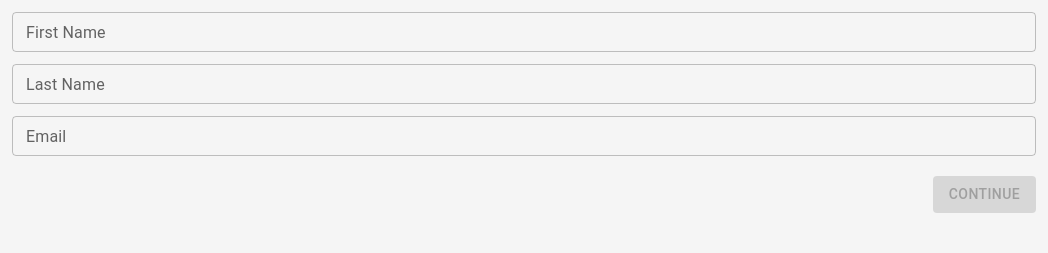
Test: ContactSection › shows error for missing first name after blur
Click the field labelled "First Name". click: x=524, y=32
box: [12,12,1036,52]
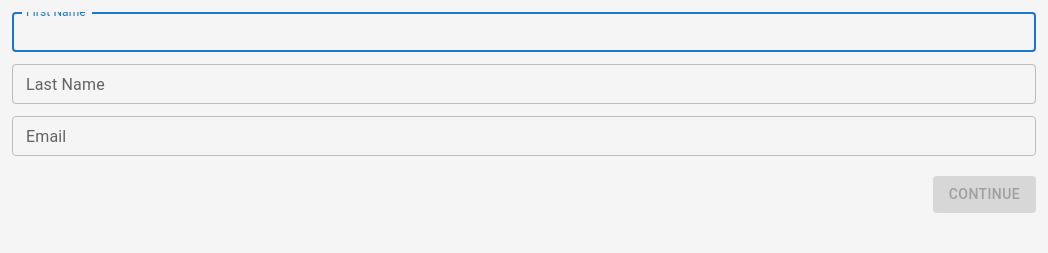
Press Tab
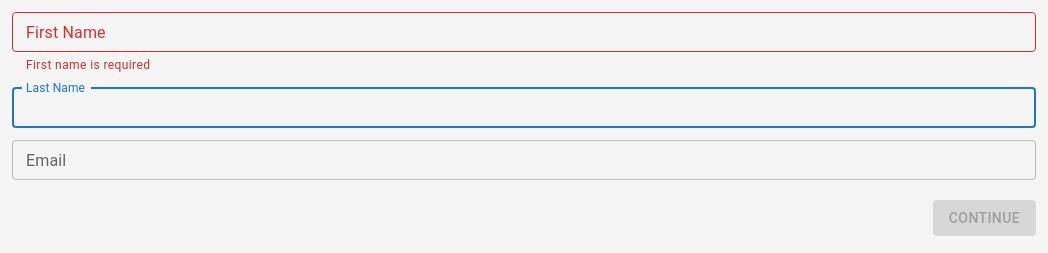
Expected: the text "First name is required" is shown, [26,58,150,72]
